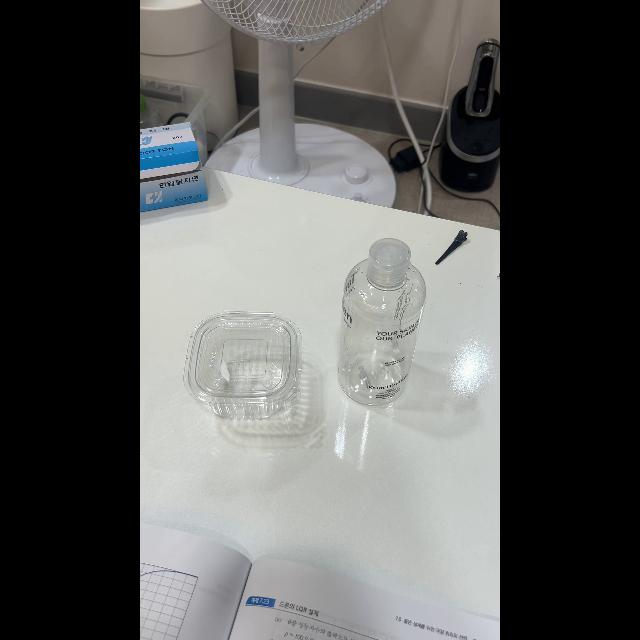clean: (337, 243, 427, 402), (184, 313, 304, 419)
